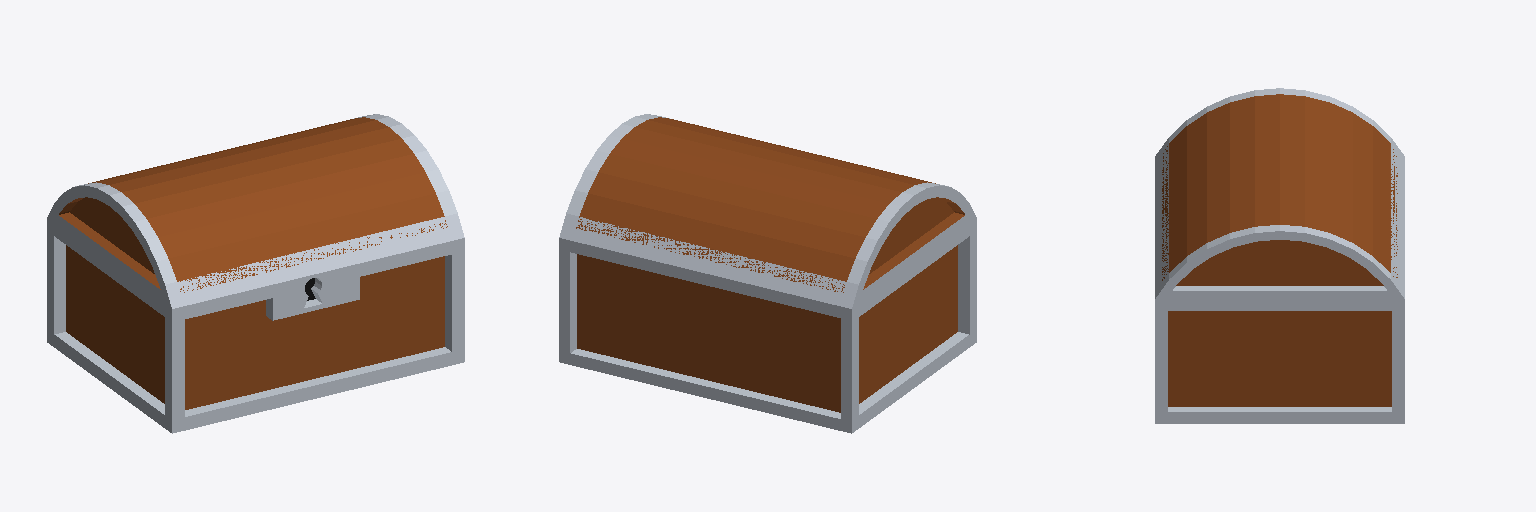
The model's file is tesouro.obj.
3 renders of one model, left to right at view 1: azimuth 30°, elevation 25°; view 2: azimuth 150°, elevation 25°; view 3: azimuth 270°, elevation 25°, orthographic.
Visible parts, largest first — view 1: Wood_Cherry_Original, Mesh1, Metal_Aluminum_Anodized; view 2: Wood_Cherry_Original, Metal_Aluminum_Anodized, Mesh1; view 3: Wood_Cherry_Original, Metal_Aluminum_Anodized, Mesh1.
Part boxes in pixels (x1,y1,x2,y2): Wood_Cherry_Original: (59,117,447,409); Mesh1: (47,213,464,433); Metal_Aluminum_Anodized: (47,114,464,416); Wood_Cherry_Original: (576,117,964,412); Metal_Aluminum_Anodized: (559,114,969,418); Mesh1: (564,205,976,433); Wood_Cherry_Original: (1162,94,1397,406); Metal_Aluminum_Anodized: (1155,88,1404,423); Mesh1: (1155,138,1398,423).
Bounding box in the file's own units: 4.04 × 2.54 × 2.99.